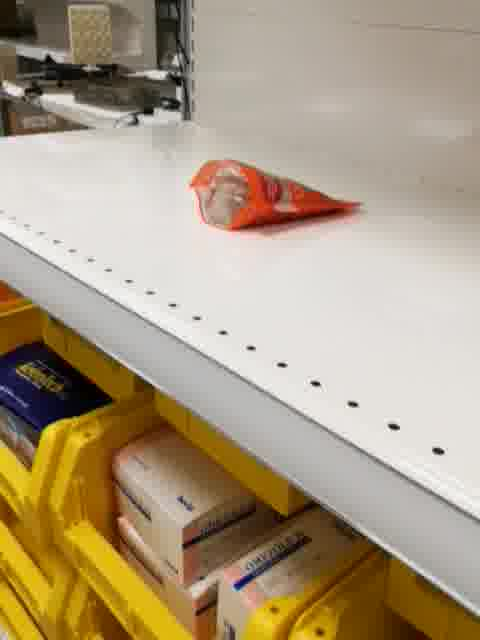whitechia: (184, 155, 364, 233)
